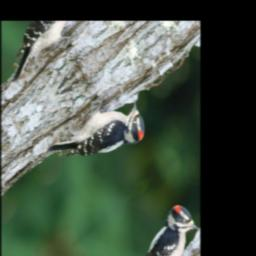Woodpecker: (43, 76, 153, 202)
